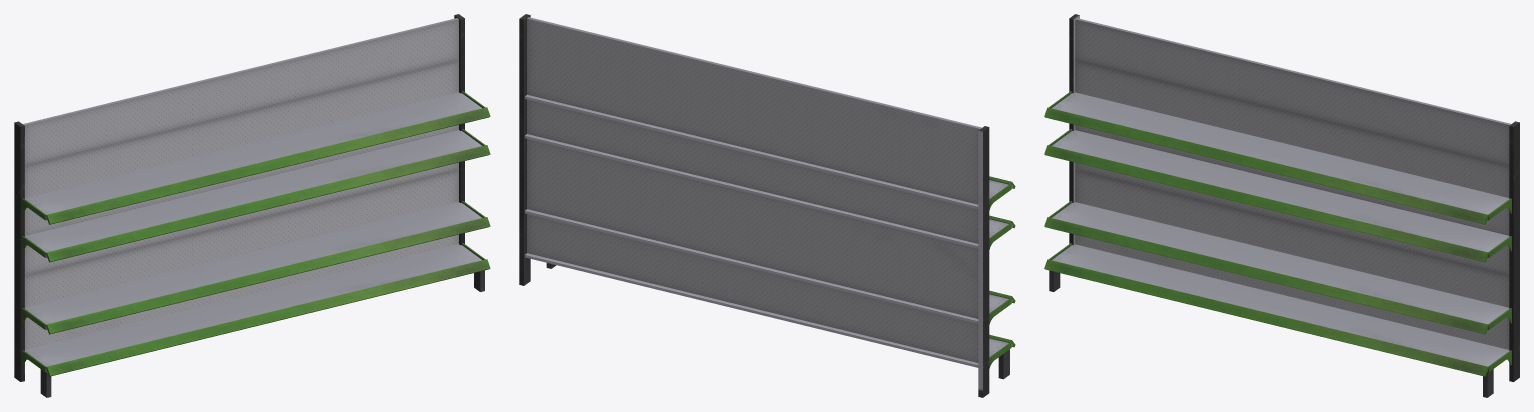
Rendered from ShelfA.fbx.
The picture shows the model from 3 angles, left to right: view 1: azimuth 30°, elevation 25°; view 2: azimuth 150°, elevation 25°; view 3: azimuth 330°, elevation 25°; orthographic projection. The views are drawn at different scales.
Parts seen in each view (by area): view 1: ShelfA; view 2: ShelfA; view 3: ShelfA.
Boxes of the visible parts, <box> form: ShelfA: <box>14,14,490,397</box>; ShelfA: <box>519,14,1015,397</box>; ShelfA: <box>1044,14,1519,397</box>.
Size of the model in its own units: 403 by 221 by 52.73.
